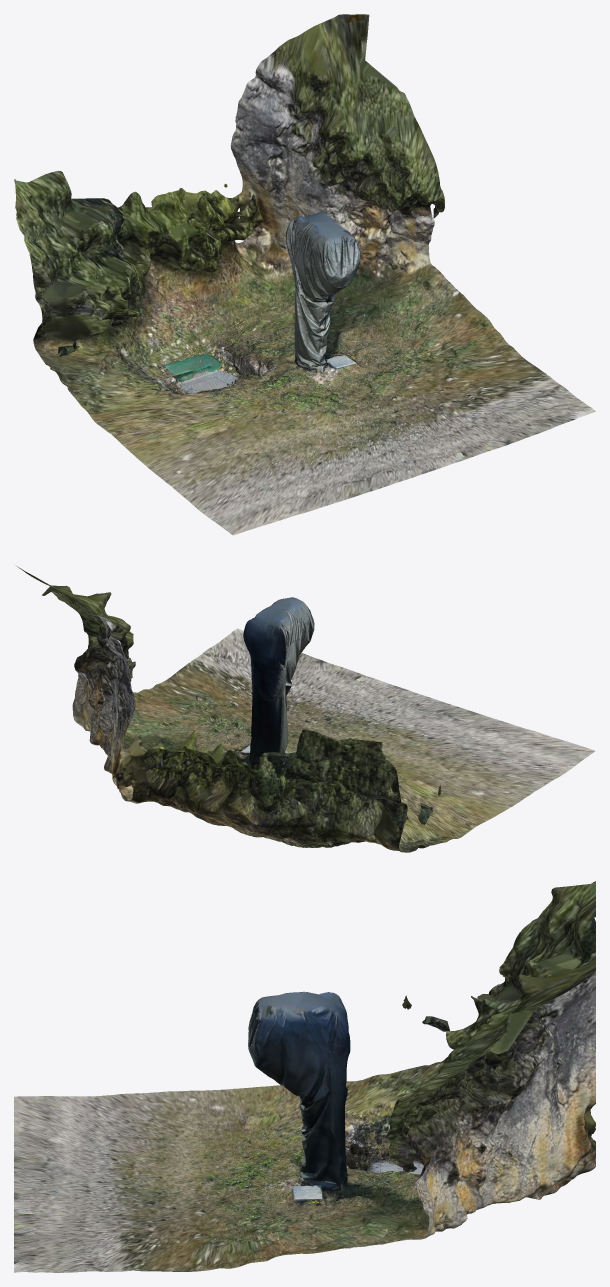
Rendered from phon2_test-DMPtS47n.glb.
3 renders of one model, top to bottom at view 1: azimuth 30°, elevation 25°; view 2: azimuth 150°, elevation 25°; view 3: azimuth 270°, elevation 25°, orthographic. The views are drawn at different scales.
Parts seen in each view (by area): view 1: Object; view 2: Object; view 3: Object.
Part boxes in pixels (bbox=[...]): Object: bbox=[14, 14, 595, 535]; Object: bbox=[17, 566, 595, 852]; Object: bbox=[14, 881, 595, 1272].
Size of the model in its own units: 1.78 by 1.25 by 1.99.
1 material, 1 textured.
